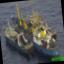fishing boat: (0, 16, 36, 58), (25, 1, 58, 42)
